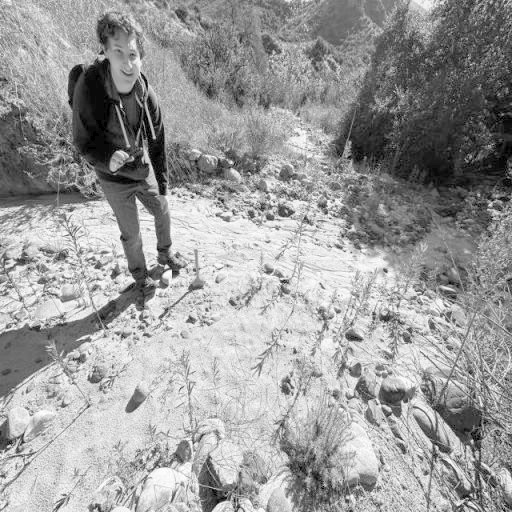mallet: (192, 248, 204, 286)
